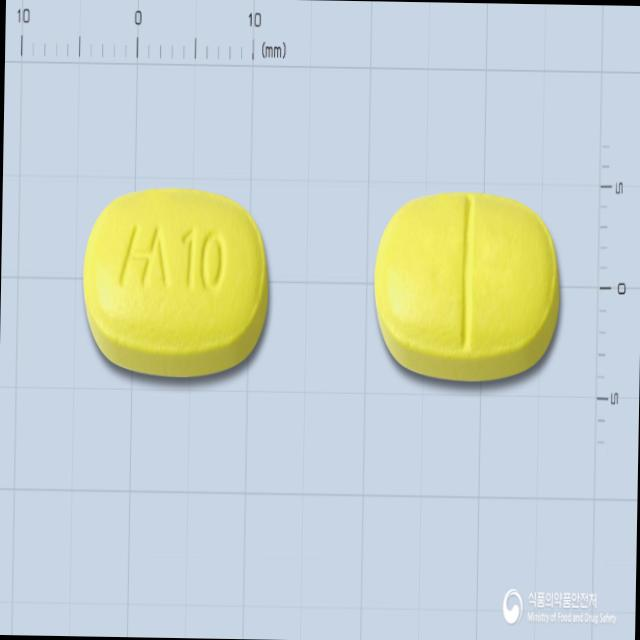Clarid - 250mg: (78, 184, 274, 388)
